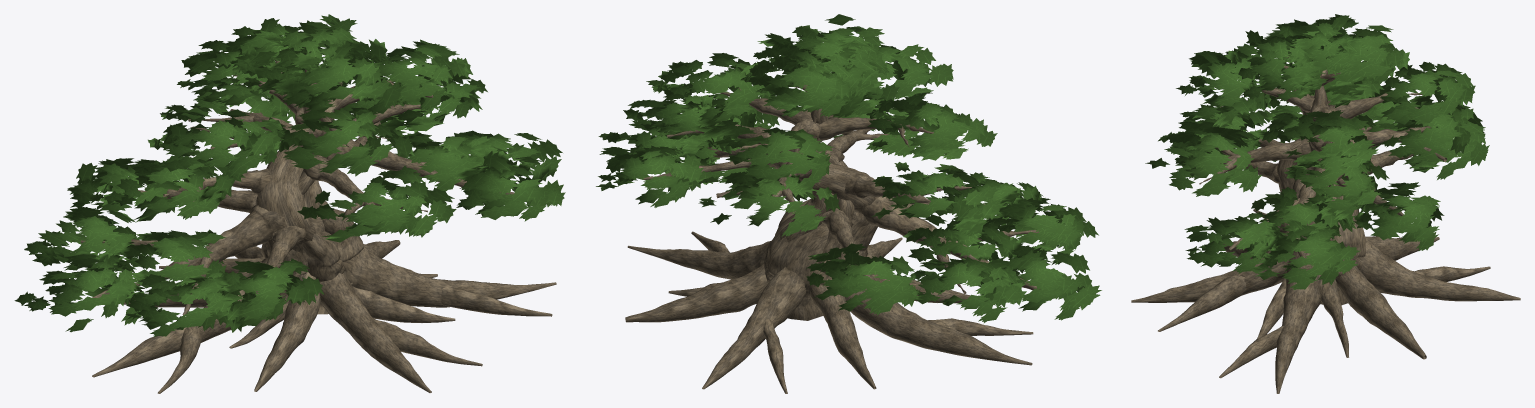
Rendered from Bonsai_Trunk_Candidate_v01.fbx.
3 views of the same model, side by side, from view 1: azimuth 30°, elevation 25°; view 2: azimuth 150°, elevation 25°; view 3: azimuth 270°, elevation 25° (orthographic). The views are drawn at different scales.
Parts seen in each view (by area): view 1: Foliage, Roots, Trunk_Branches; view 2: Foliage, Roots, Trunk_Branches; view 3: Foliage, Roots, Trunk_Branches.
Part boxes in pixels (bbox=[...]): Foliage: bbox=[14, 14, 565, 336]; Roots: bbox=[92, 240, 556, 393]; Trunk_Branches: bbox=[80, 60, 514, 315]; Foliage: bbox=[596, 14, 1101, 322]; Roots: bbox=[625, 231, 1033, 393]; Trunk_Branches: bbox=[643, 85, 1040, 320]; Foliage: bbox=[1145, 14, 1489, 289]; Roots: bbox=[1131, 209, 1520, 393]; Trunk_Branches: bbox=[1199, 55, 1446, 305].
Bounding box in the file's own units: 8.21 × 4.31 × 5.7.
